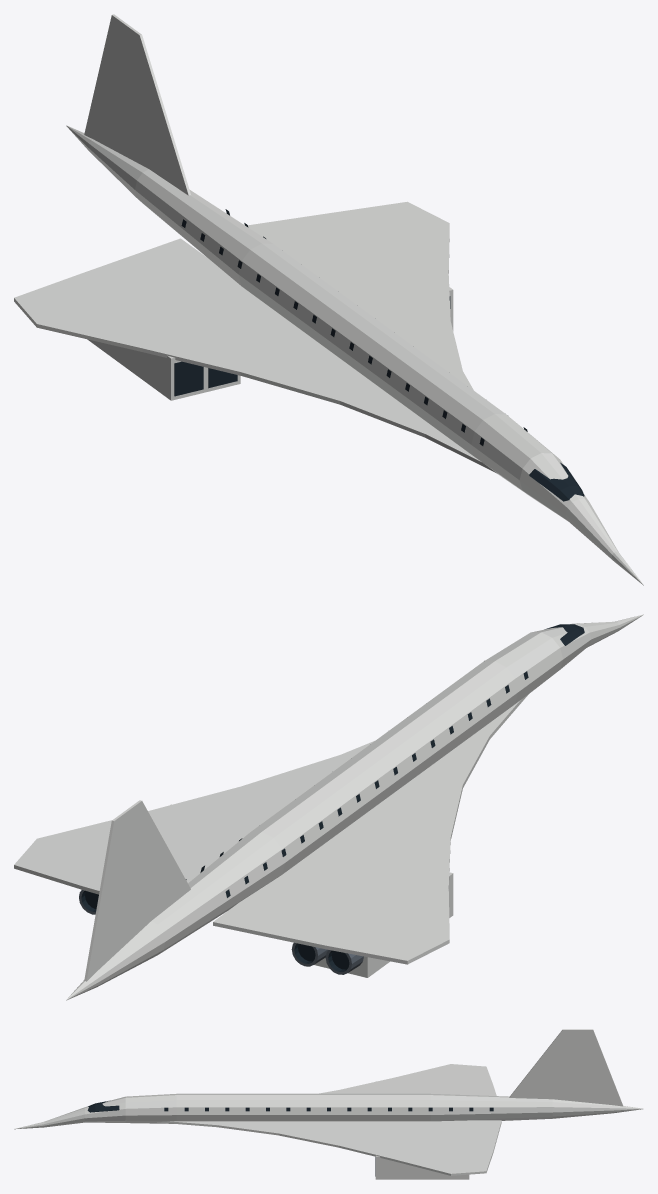
The model's file is concorde.glb.
3 views of the same model, one above another, from view 1: azimuth 30°, elevation 25°; view 2: azimuth 150°, elevation 25°; view 3: azimuth 270°, elevation 25° (orthographic). The views are drawn at different scales.
Visible parts, largest first — view 1: concorde body; view 2: concorde body; view 3: concorde body.
Boxes of the visible parts, left/top/right/bottom form: concorde body: left=14, top=14, right=643, bottom=585; concorde body: left=14, top=614, right=643, bottom=1000; concorde body: left=14, top=1029, right=643, bottom=1179.
Bounding box in the file's own units: 25.6 × 12.2 × 62.
